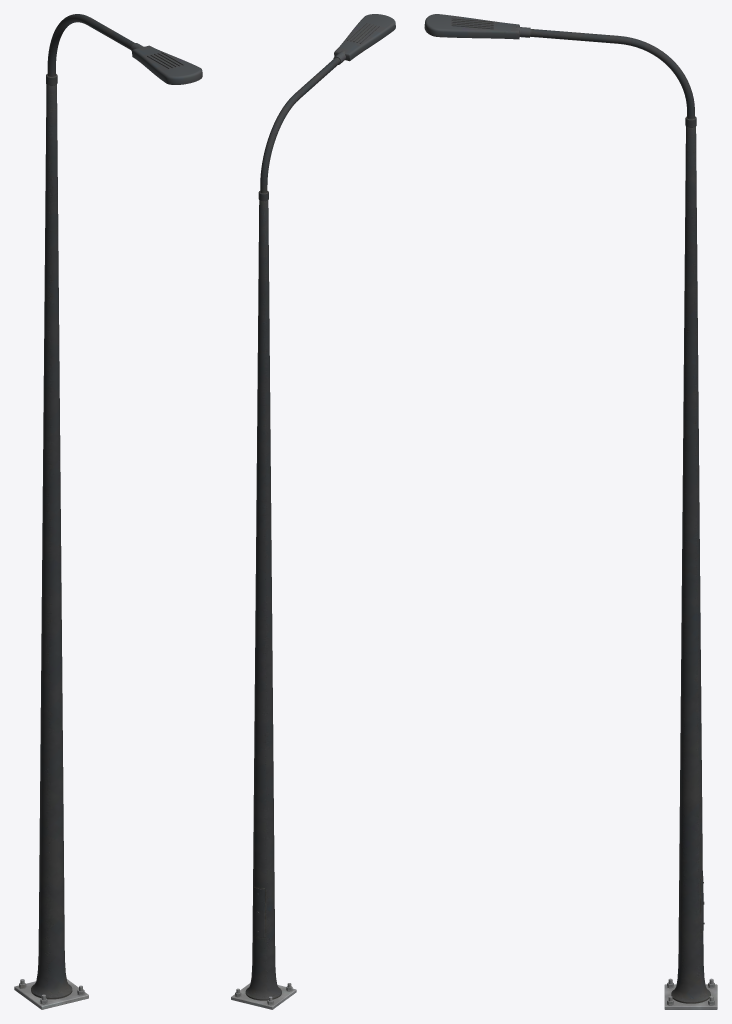
File: g3-street-light.glb
3 renders of one model, left to right at view 1: azimuth 30°, elevation 25°; view 2: azimuth 150°, elevation 25°; view 3: azimuth 270°, elevation 25°, orthographic. The views are drawn at different scales.
Parts seen in each view (by area): view 1: street-light_body; view 2: street-light_body; view 3: street-light_body.
Boxes of the visible parts, x1,y1,x2,y2 form: street-light_body: [14, 14, 202, 1009]; street-light_body: [231, 14, 395, 1009]; street-light_body: [424, 14, 717, 1009].
Bounding box in the file's own units: 0.4 × 8.16 × 2.21.
Materials: 2 (2 with a texture image).
